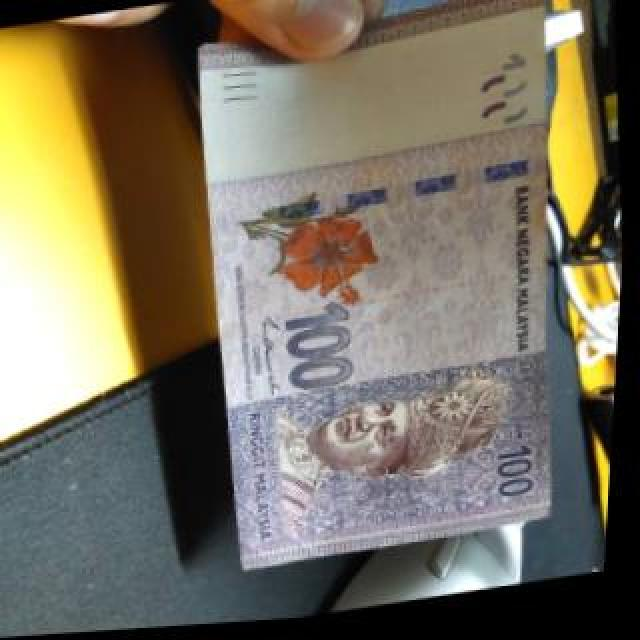100 Ringgit: (168, 0, 587, 585)
